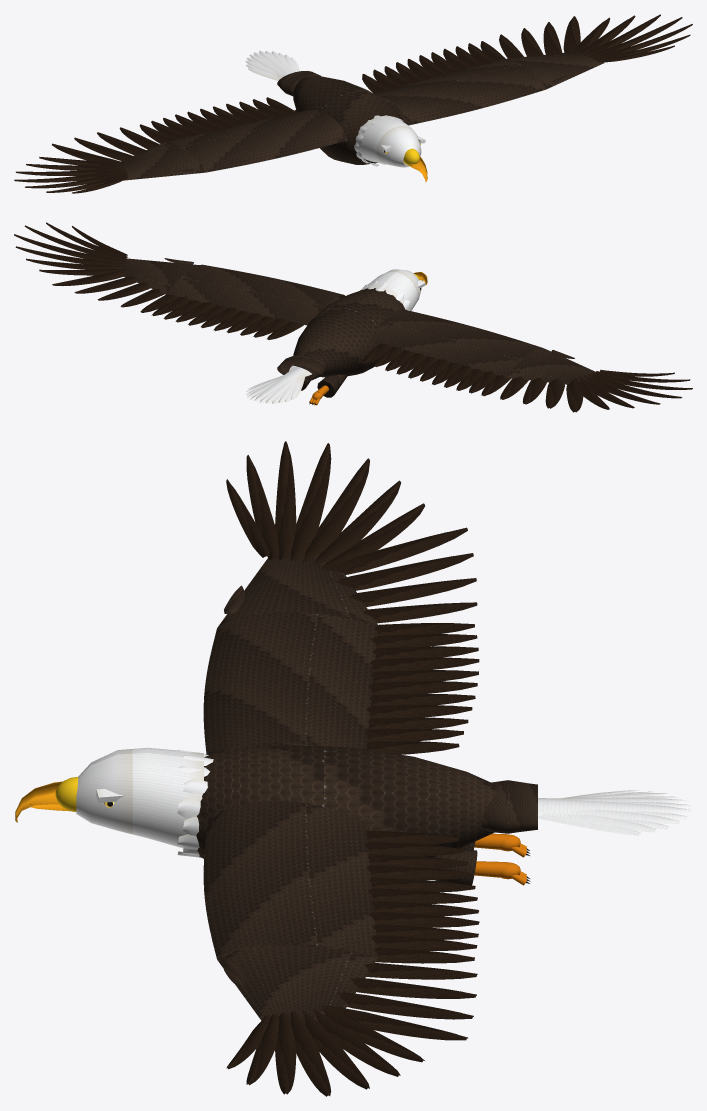
The model's file is bald-eagle-hd.glb.
The picture shows the model from 3 angles, top to bottom: view 1: azimuth 30°, elevation 25°; view 2: azimuth 150°, elevation 25°; view 3: azimuth 270°, elevation 25°; orthographic projection. The views are drawn at different scales.
Visible parts, largest first — view 1: RightShoulderPivot, LeftShoulderPivot, EagleMuscularTorso, RightWristPivot, LeftWristPivot, LeftPrimaryTips, RightPrimaryTips, EagleWhiteHeadCape, TailGroup, HeadGroup; view 2: RightShoulderPivot, LeftShoulderPivot, EagleMuscularTorso, RightWristPivot, LeftWristPivot, LeftPrimaryTips, RightPrimaryTips, TailGroup, EagleWhiteHeadCape, BaldEagleHighResRig, HeadGroup; view 3: LeftShoulderPivot, RightShoulderPivot, EagleMuscularTorso, LeftWristPivot, RightWristPivot, RightPrimaryTips, EagleWhiteHeadCape, LeftPrimaryTips, TailGroup, HeadGroup, BaldEagleHighResRig.
Boxes of the visible parts, x1,y1,x2,y2 form: RightShoulderPivot: [139, 97, 347, 172]; LeftShoulderPivot: [362, 41, 545, 125]; EagleMuscularTorso: [293, 76, 403, 164]; RightWristPivot: [52, 127, 205, 180]; LeftWristPivot: [499, 16, 604, 89]; LeftPrimaryTips: [574, 14, 692, 62]; RightPrimaryTips: [14, 156, 127, 193]; EagleWhiteHeadCape: [358, 115, 421, 167]; TailGroup: [245, 50, 321, 96]; HeadGroup: [354, 115, 425, 170]; RightShoulderPivot: [362, 309, 544, 396]; LeftShoulderPivot: [140, 264, 344, 339]; EagleMuscularTorso: [293, 288, 405, 377]; RightWristPivot: [500, 348, 595, 412]; LeftWristPivot: [52, 258, 199, 307]; LeftPrimaryTips: [14, 222, 127, 275]; RightPrimaryTips: [574, 369, 692, 409]; TailGroup: [246, 354, 325, 403]; EagleWhiteHeadCape: [365, 269, 421, 310]; BaldEagleHighResRig: [301, 374, 347, 405]; HeadGroup: [360, 274, 425, 310]; LeftShoulderPivot: [203, 801, 479, 963]; RightShoulderPivot: [203, 612, 479, 754]; EagleMuscularTorso: [196, 745, 498, 858]; LeftWristPivot: [217, 945, 477, 1040]; RightWristPivot: [217, 527, 477, 627]; RightPrimaryTips: [226, 441, 424, 568]; EagleWhiteHeadCape: [76, 747, 203, 848]; LeftPrimaryTips: [226, 1007, 424, 1096]; TailGroup: [481, 780, 691, 835]; HeadGroup: [29, 749, 213, 857]; BaldEagleHighResRig: [434, 833, 530, 885].
Size of the model in its own units: 4.11 by 0.376 by 1.8.
Materials: 8 (3 with a texture image).
